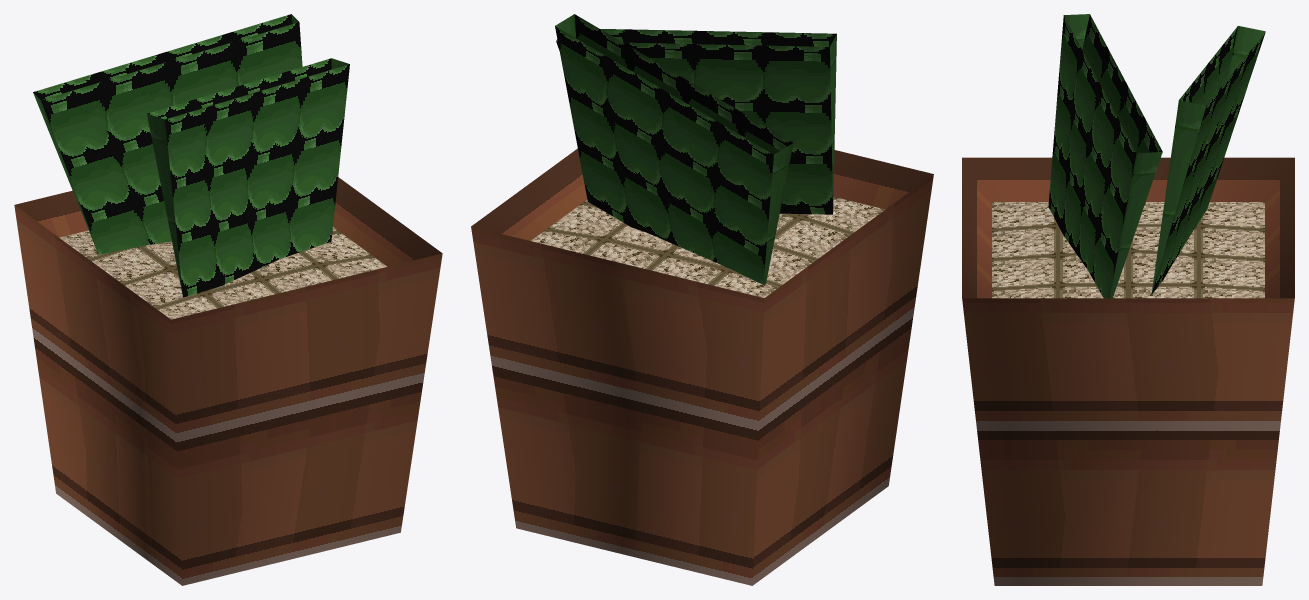
Rendered from 3469IMPT01_08.gltf.
3 renders of one model, left to right at view 1: azimuth 30°, elevation 25°; view 2: azimuth 150°, elevation 25°; view 3: azimuth 270°, elevation 25°, orthographic. The views are drawn at different scales.
Visible parts, largest first — view 1: 3469IMPT01_08; view 2: 3469IMPT01_08; view 3: 3469IMPT01_08.
Boxes of the visible parts, box(x1,y1,x2,y2) form: 3469IMPT01_08: box(14, 14, 442, 585); 3469IMPT01_08: box(471, 14, 933, 585); 3469IMPT01_08: box(962, 14, 1294, 585).
Bounding box in the file's own units: 0.3503 × 0.5552 × 0.3501.
Materials: 3 (3 with a texture image).
